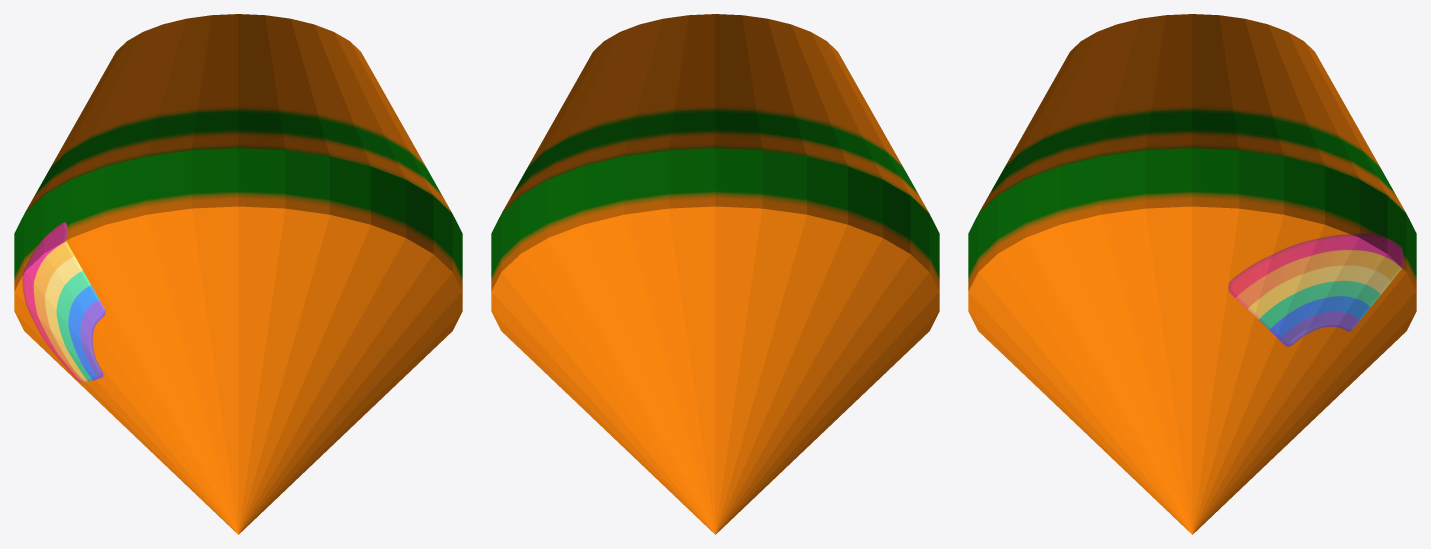
The picture shows the model from 3 angles, left to right: view 1: azimuth 30°, elevation 25°; view 2: azimuth 150°, elevation 25°; view 3: azimuth 270°, elevation 25°; orthographic projection.
Parts seen in each view (by area): view 1: algeomath (11), 스티커; view 2: algeomath (11); view 3: algeomath (11), 스티커.
Part boxes in pixels (left/top/right/bottom): algeomath (11): left=14, top=14, right=462, bottom=534; 스티커: left=22, top=222, right=105, bottom=381; algeomath (11): left=491, top=14, right=939, bottom=534; algeomath (11): left=968, top=14, right=1416, bottom=534; 스티커: left=1228, top=233, right=1403, bottom=346.
Size of the model in its own units: 7 by 8 by 6.96.
2 materials, 2 textured.
